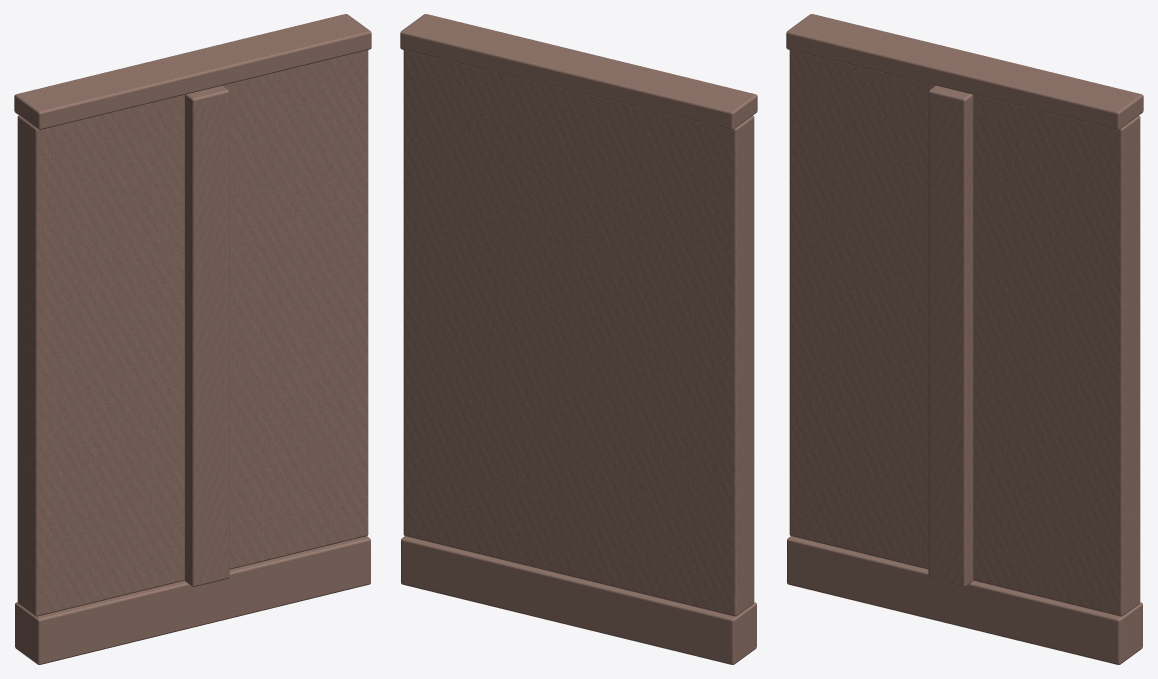
The model's file is printing-press-and-newspaper-office-brick-wall-bay-61f44fe9__37766.glb.
3 views of the same model, side by side, from view 1: azimuth 30°, elevation 25°; view 2: azimuth 150°, elevation 25°; view 3: azimuth 330°, elevation 25° (orthographic).
Parts seen in each view (by area): view 1: brick-wall-bay; view 2: brick-wall-bay; view 3: brick-wall-bay.
Part boxes in pixels (x1=…): brick-wall-bay: x1=14, y1=14, x2=371, y2=664; brick-wall-bay: x1=400, y1=14, x2=757, y2=664; brick-wall-bay: x1=786, y1=14, x2=1143, y2=664.
Size of the model in its own units: 3 by 4.76 by 0.4898.
1 material, 1 textured.
